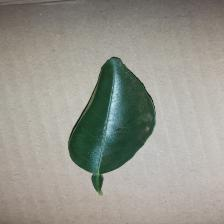healthy: (68, 54, 159, 176)
